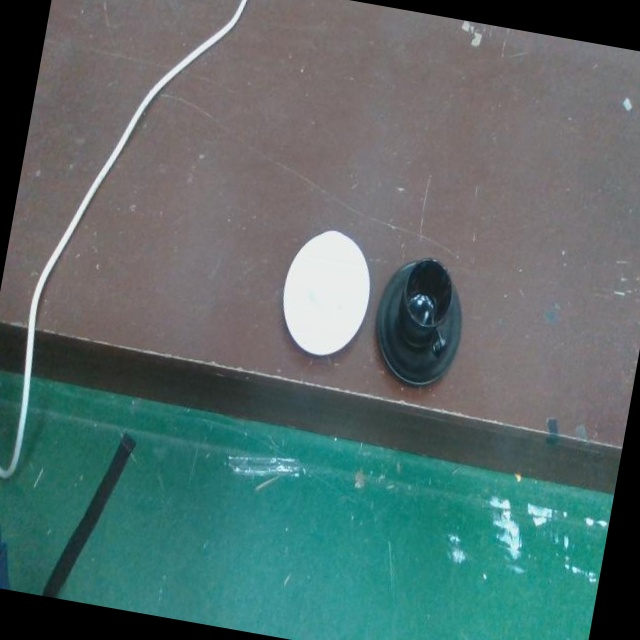black: (374, 254, 464, 390)
white: (281, 227, 371, 361)
